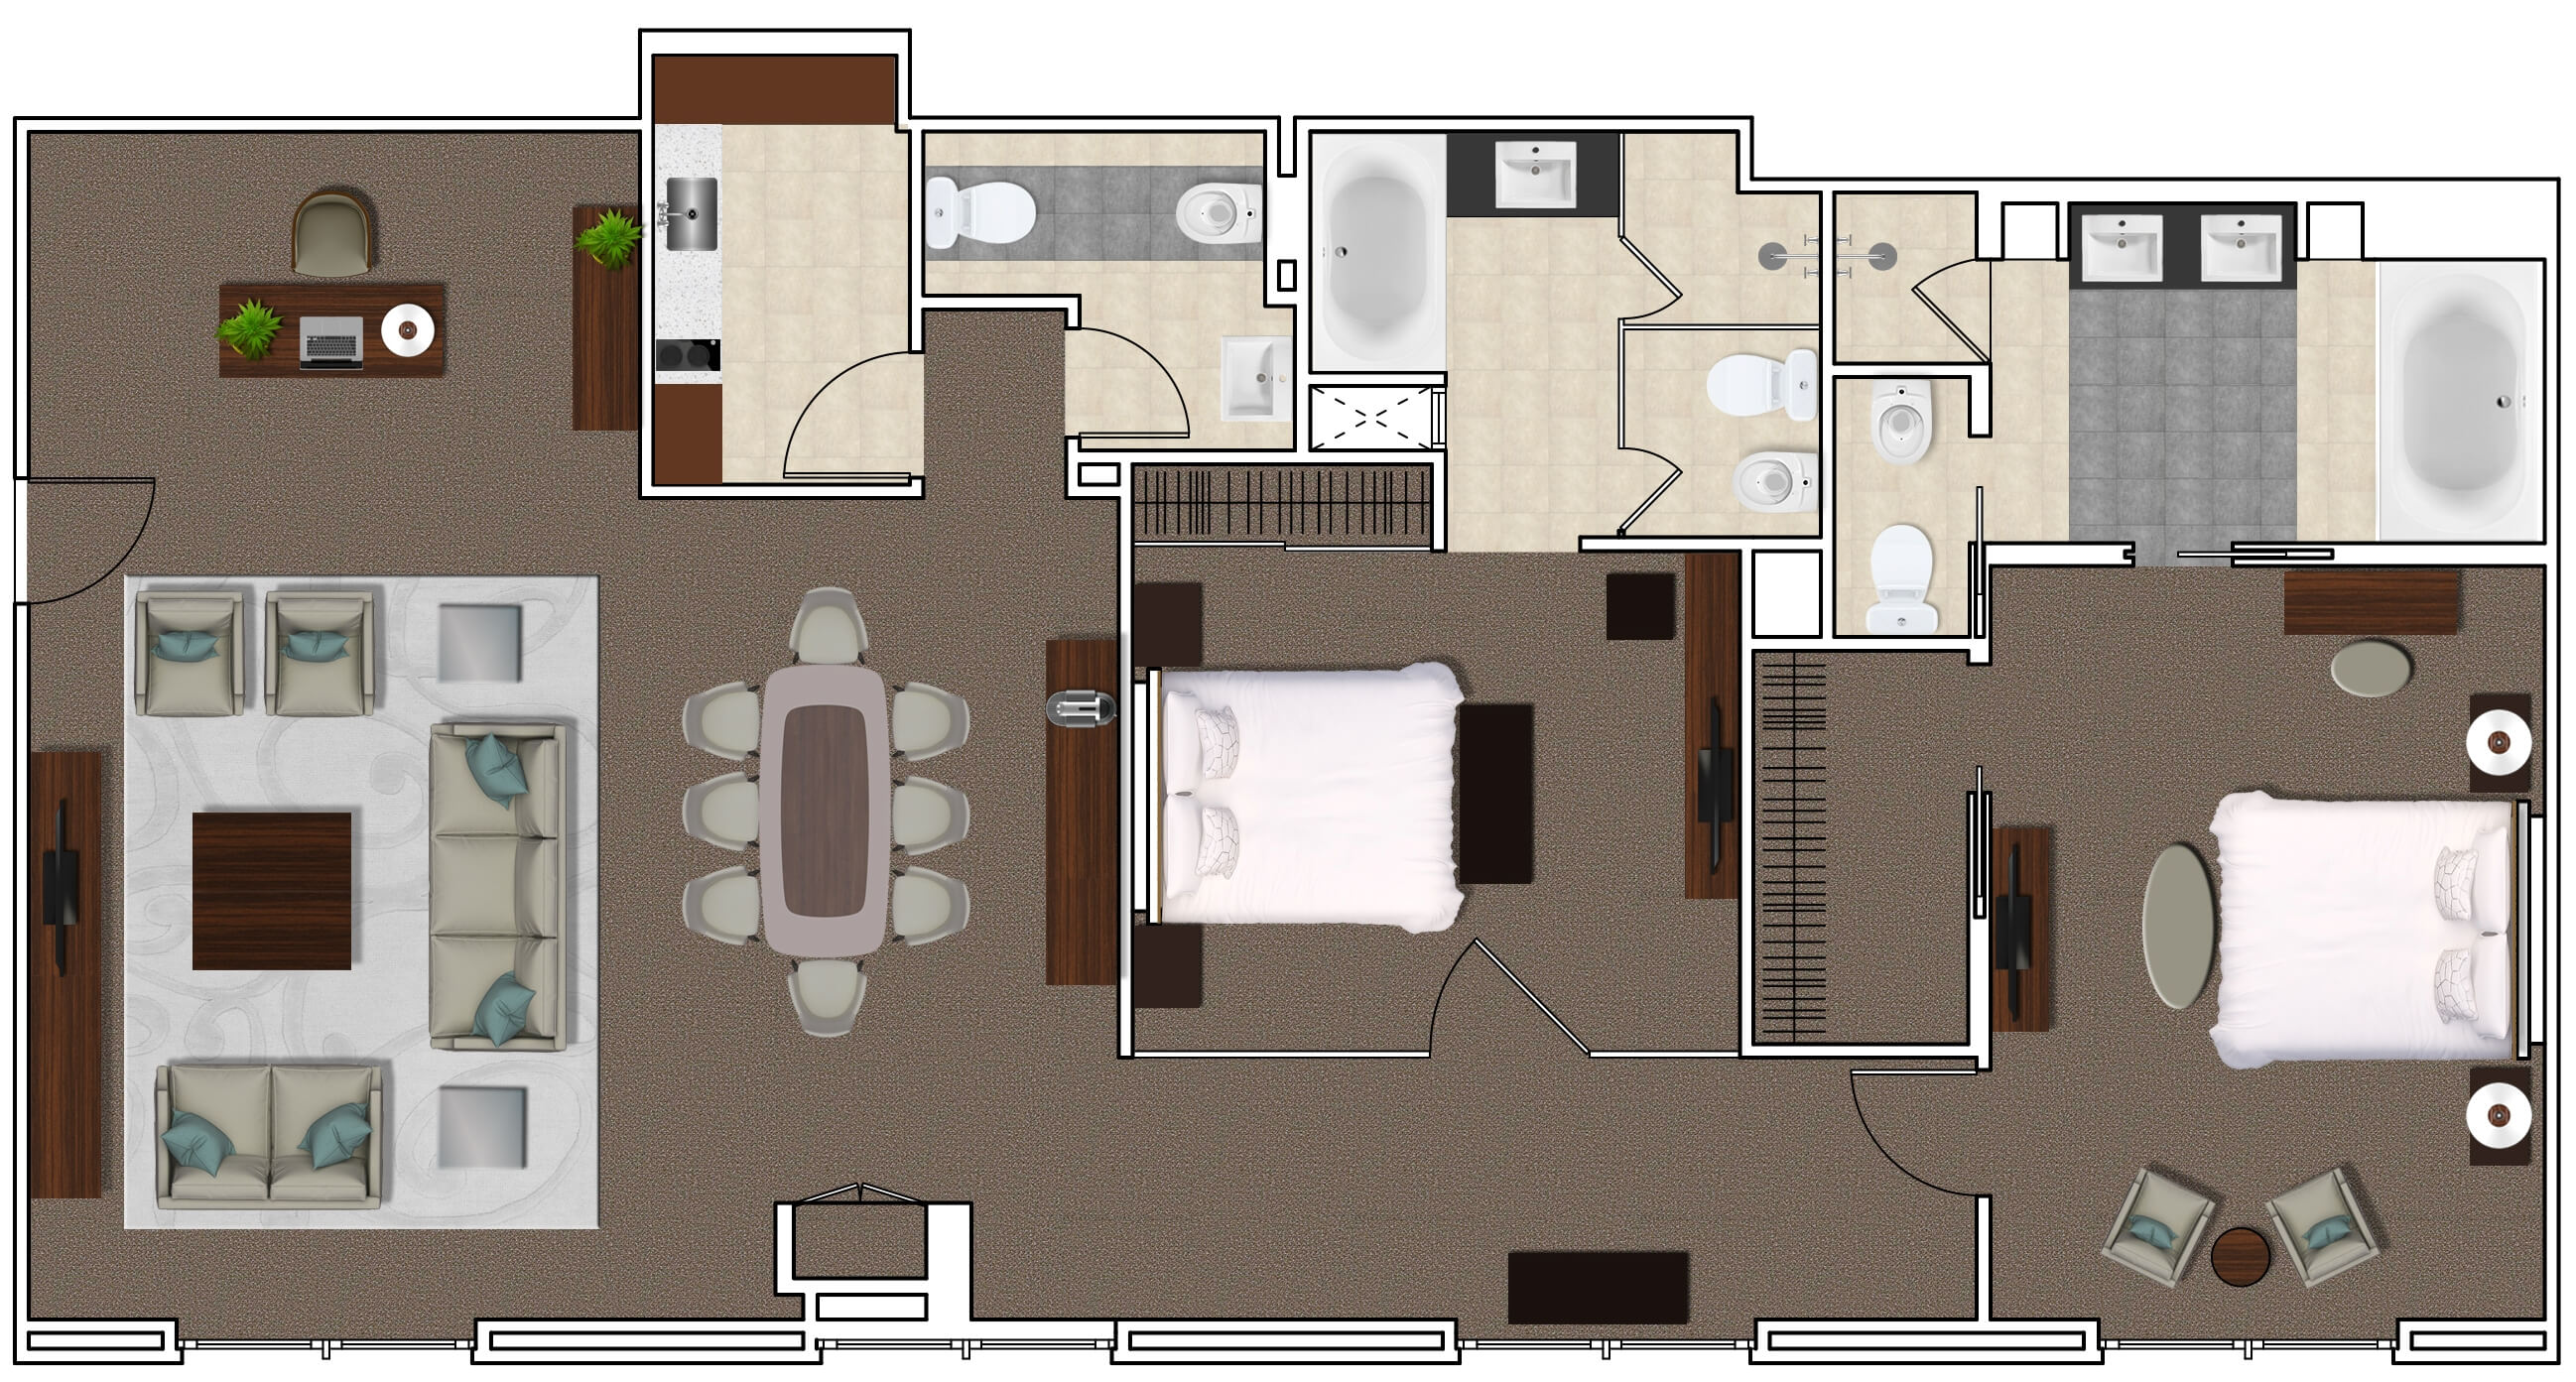door: (1412, 927, 1596, 1043), (41, 462, 167, 595), (768, 351, 894, 484), (1830, 1055, 1954, 1189), (1078, 317, 1203, 452), (44, 464, 169, 596), (1627, 206, 1695, 322), (1896, 245, 1966, 354), (1629, 424, 1692, 530)
room: (12, 107, 658, 1375), (1968, 533, 2576, 1372), (1114, 530, 1757, 1072), (1958, 150, 2576, 571), (1283, 101, 1830, 554), (896, 116, 1317, 475), (629, 20, 930, 503), (1814, 353, 1993, 653), (1816, 165, 2000, 383)
